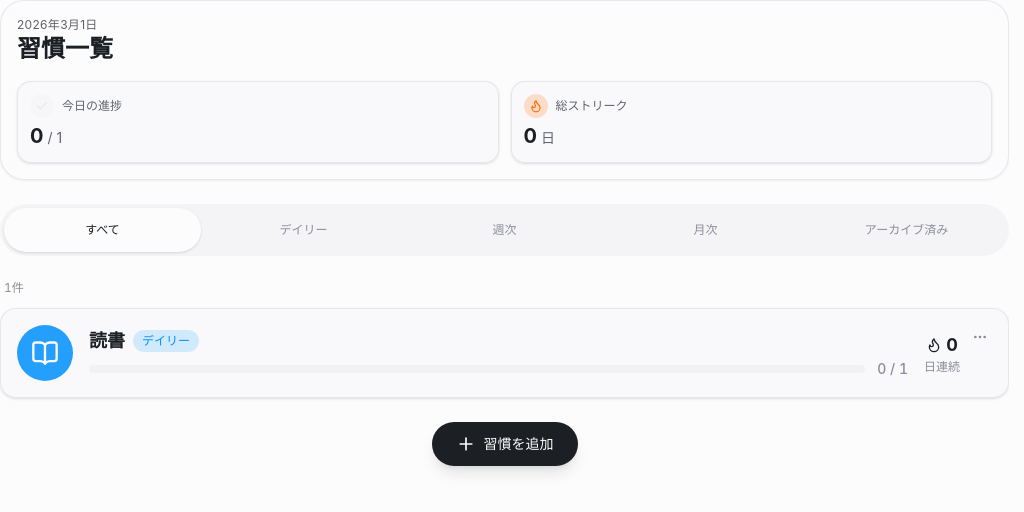
Test: HabitsListClient › すべてではアクティブな習慣だけを表示し、アーカイブ済みフィルターではアーカイブ済みだけを表示する
The width and height of the screenshot is (1024, 512).
Expected: the heading "読書" is shown, [89,327,125,355]
Expected: the heading "アーカイブした運動" is not shown
Click the radio button labelled "アーカイブ済み". click: (906, 230)
box: [808,208,1005,252]
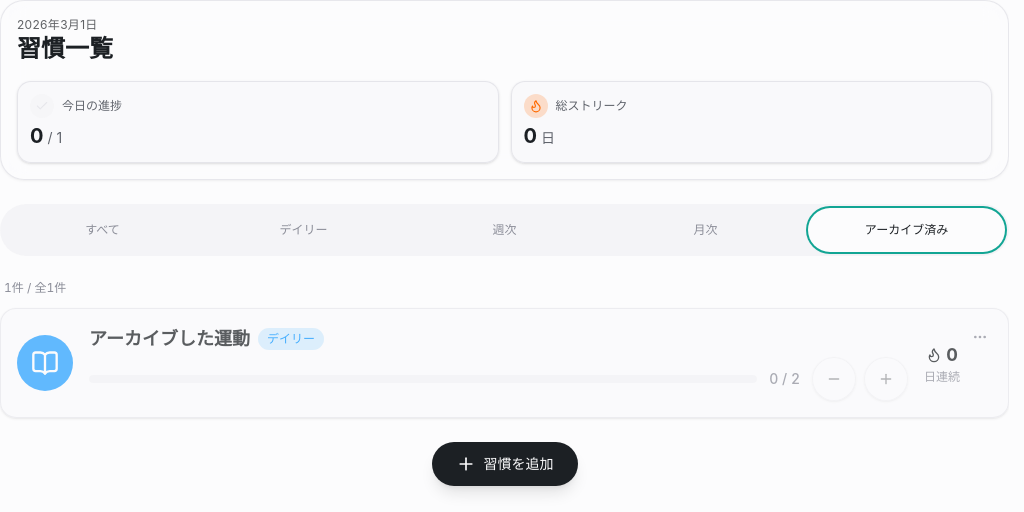
Expected: the button "読書" is gone
Expected: the heading "アーカイブした運動" is shown, [89,325,250,353]
